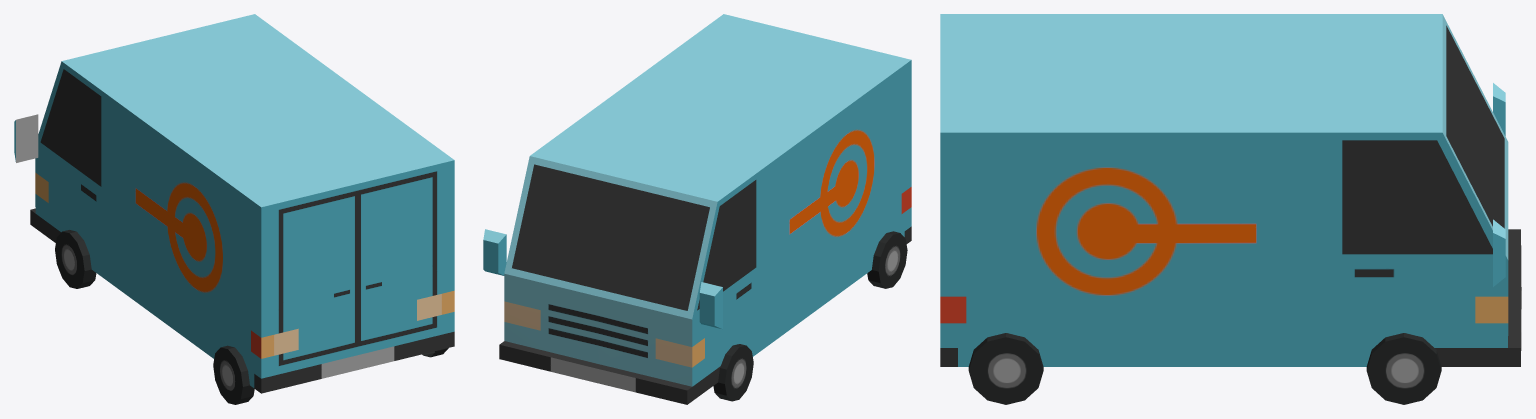
Rendered from van_mesh.fbx.
The picture shows the model from 3 angles, left to right: view 1: azimuth 30°, elevation 25°; view 2: azimuth 150°, elevation 25°; view 3: azimuth 270°, elevation 25°; orthographic projection. The views are drawn at different scales.
Parts seen in each view (by area): view 1: van_mesh; view 2: van_mesh; view 3: van_mesh.
Part boxes in pixels (x1,y1,x2,y2): van_mesh: (14,14,454,404); van_mesh: (483,14,911,404); van_mesh: (940,14,1521,404).
Bounding box in the file's own units: 3.44 × 2.86 × 5.62.
